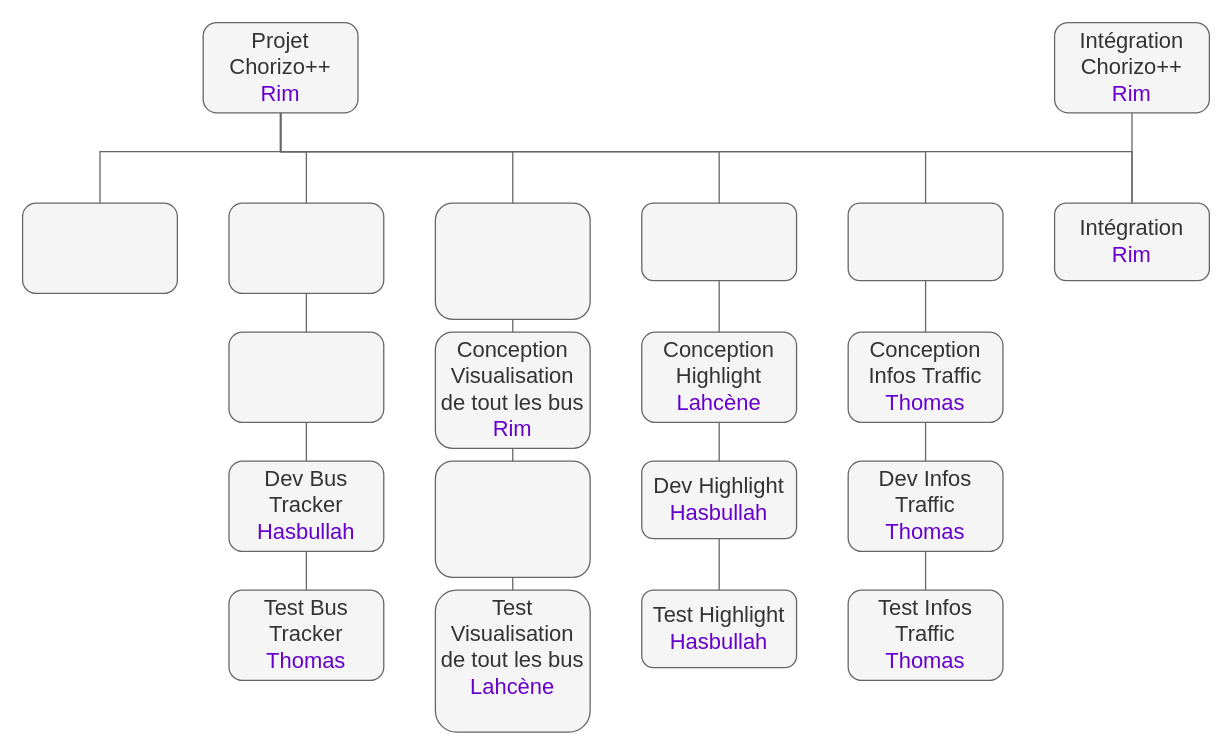
Image size: 1232x755. Some labels were removed from this diagram. The shapes that lost their labels are listed below. From the top down, each one's box as (x1, y1, x2, y2) in pixels, then its label:
(21, 202, 177, 293): Conception Génerale Lahcène
(228, 202, 384, 293): SP Bus Tracker Thomas
(434, 202, 590, 319): SP Visualisation de tout les bus Rim
(640, 202, 797, 281): SP Highlight Lahcène
(847, 202, 1003, 281): SP Infos Traffic Hasbullah
(228, 331, 384, 422): Conception Bus Tracker Lahcène
(434, 460, 590, 577): Dev Visualisation de tout les bus Lahcène
